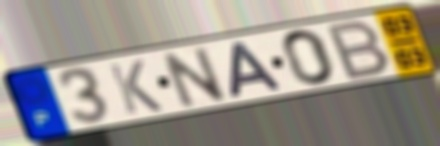0: (279, 27, 340, 89)
3: (59, 65, 110, 128)
A: (226, 39, 287, 100)
B: (325, 17, 394, 83)
K: (105, 58, 166, 116)
N: (157, 44, 231, 110)
